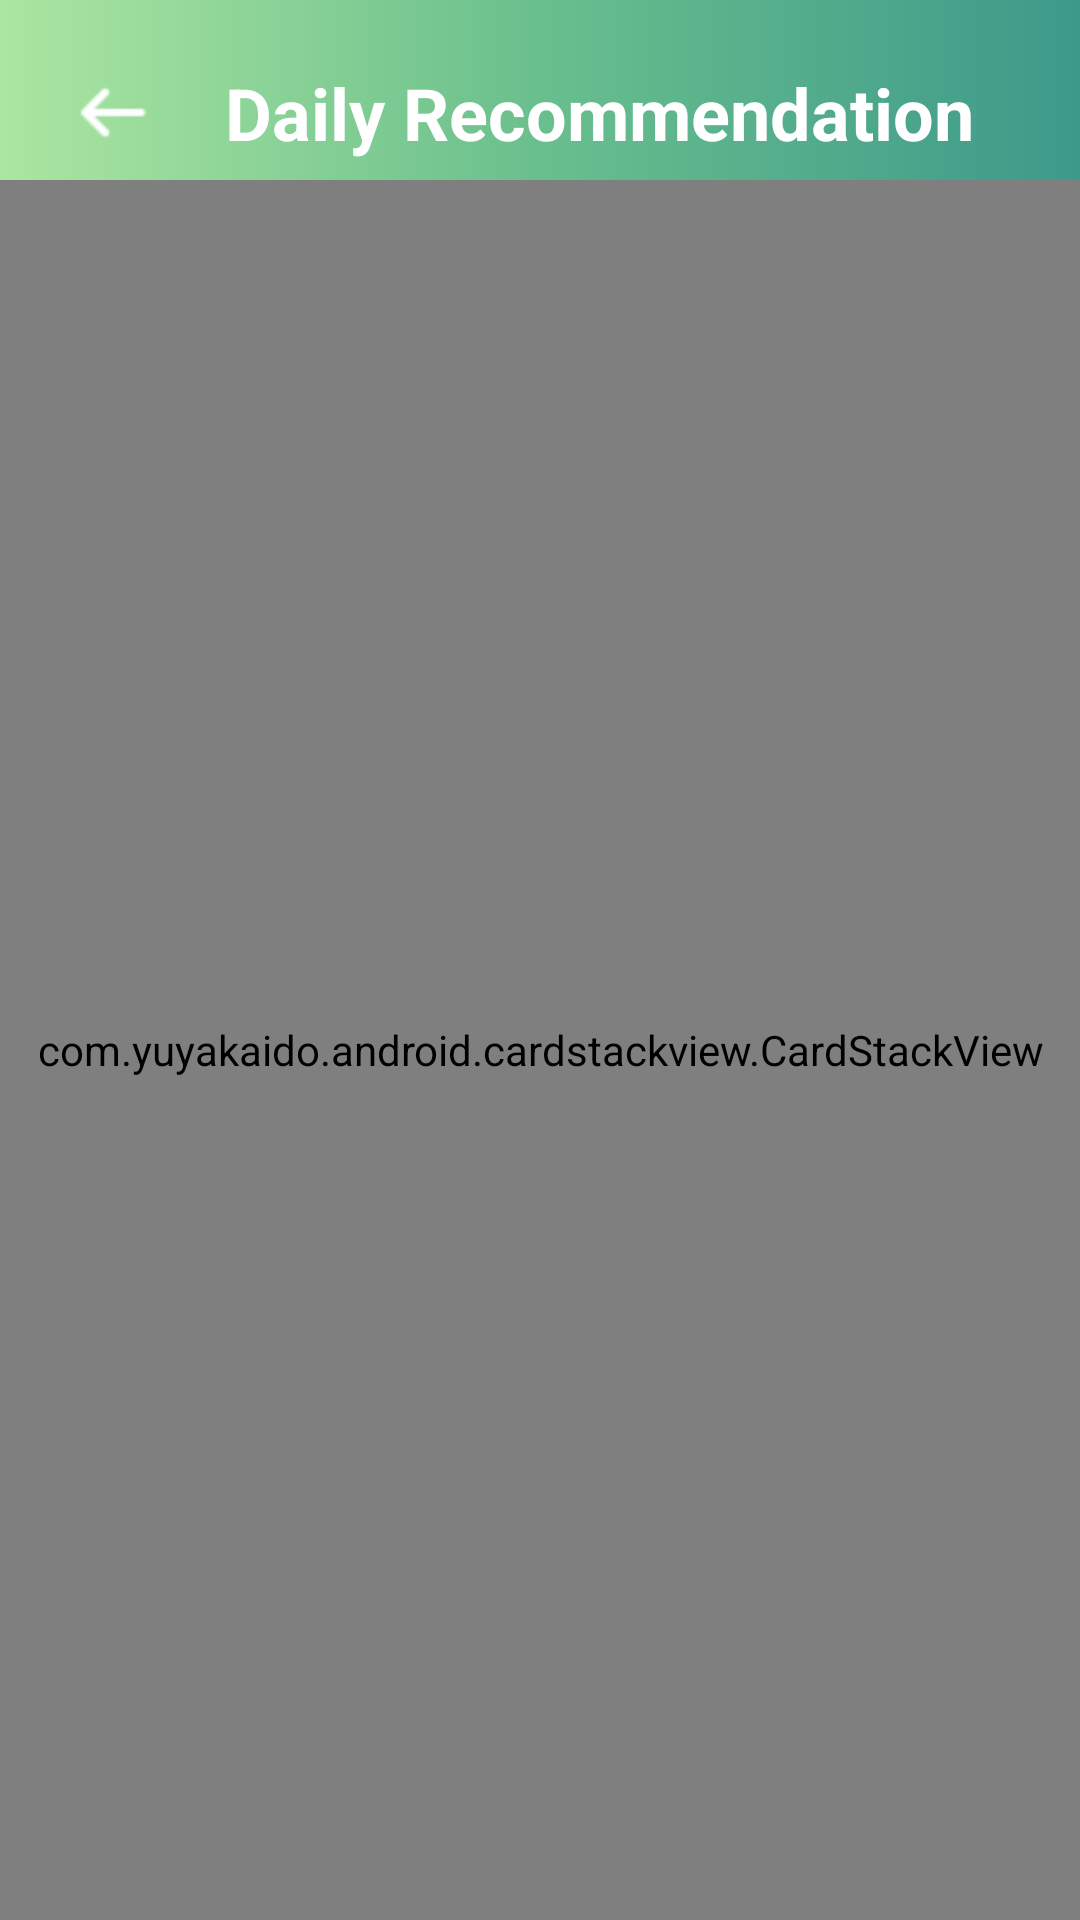

Locate icon controls on the screen. Image size 1080×1920, boxes as box(x1, y1, x2, y2).
back: box(81, 88, 146, 137)
